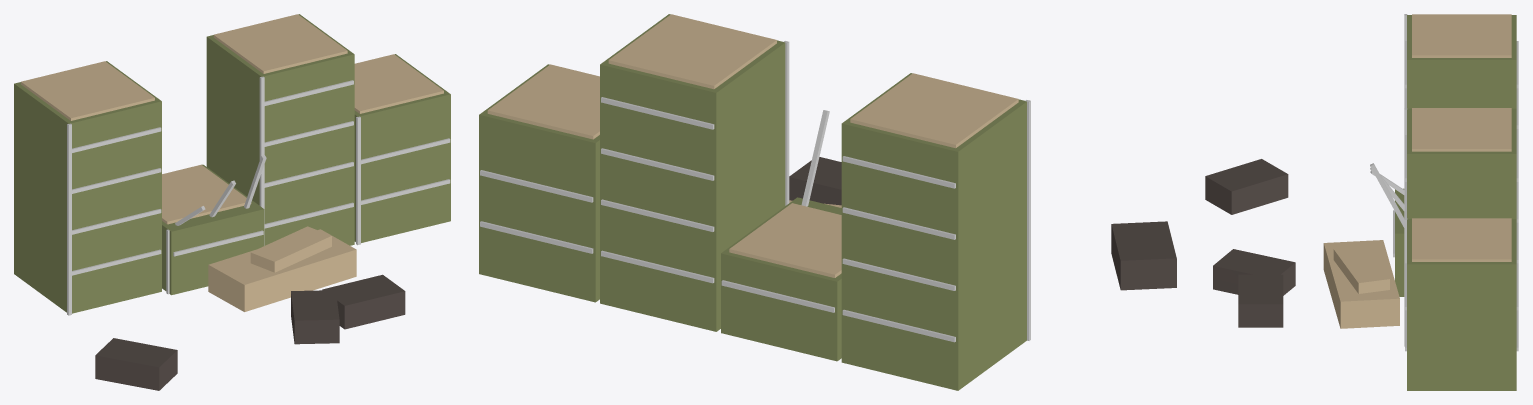
The model's file is SM_HescoCorto4_v2_Escalonado_e1_Danado_LOD0.fbx.
The picture shows the model from 3 angles, left to right: view 1: azimuth 30°, elevation 25°; view 2: azimuth 150°, elevation 25°; view 3: azimuth 270°, elevation 25°; orthographic projection. The views are drawn at different scales.
Visible parts, largest first — view 1: SM_hesco_piezas_v109_LOD0; view 2: SM_hesco_piezas_v109_LOD0; view 3: SM_hesco_piezas_v109_LOD0.
Boxes of the visible parts, bbox=[...] form: SM_hesco_piezas_v109_LOD0: bbox=[14, 14, 450, 390]; SM_hesco_piezas_v109_LOD0: bbox=[479, 14, 1176, 390]; SM_hesco_piezas_v109_LOD0: bbox=[1205, 14, 1518, 390].
Bounding box in the file's own units: 4.94 × 2.13 × 3.14.
